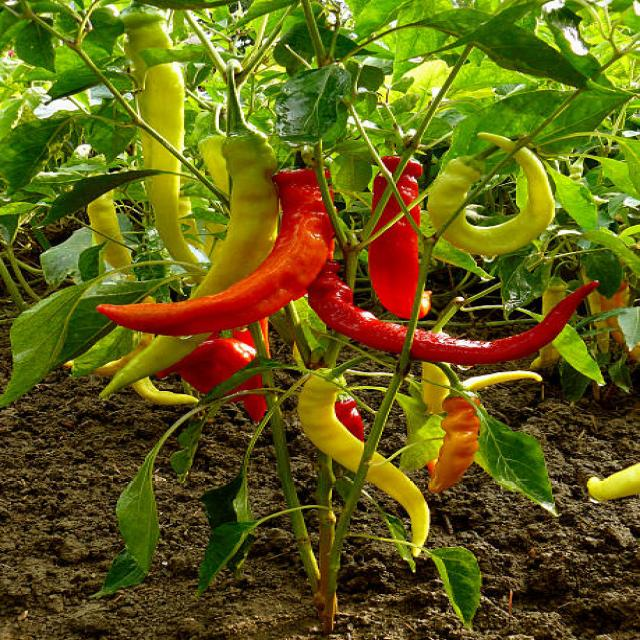Ripe: (98, 184, 330, 337), (305, 259, 600, 366), (368, 156, 424, 318)
Unripe: (294, 368, 428, 544), (424, 127, 554, 255), (191, 134, 277, 297), (136, 61, 188, 260), (100, 334, 208, 396), (131, 378, 197, 406)
